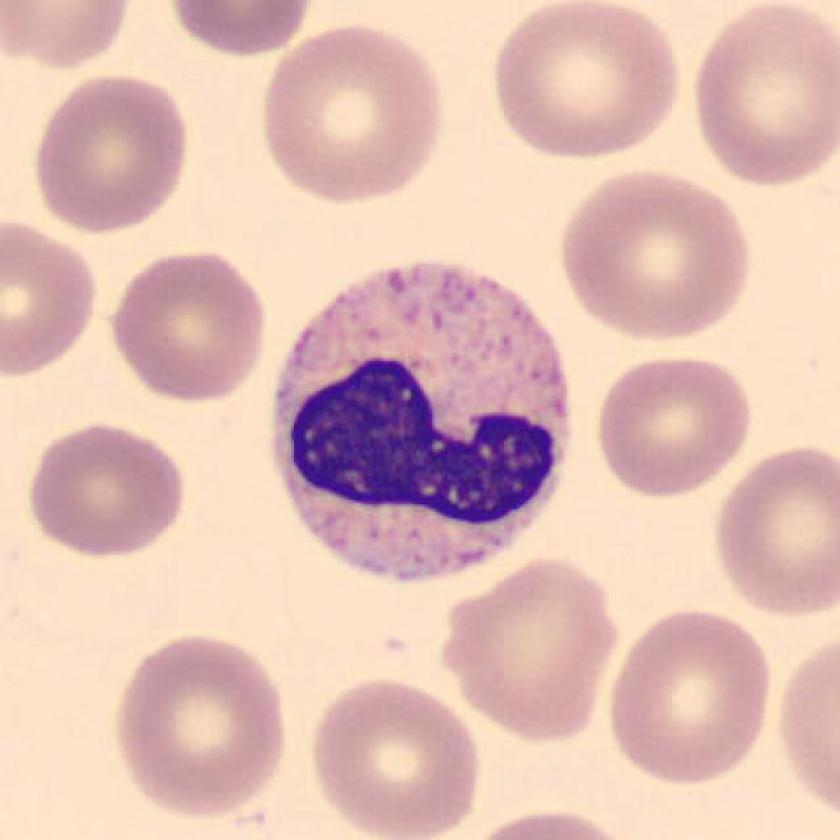neutrophil: (277, 265, 572, 581)
